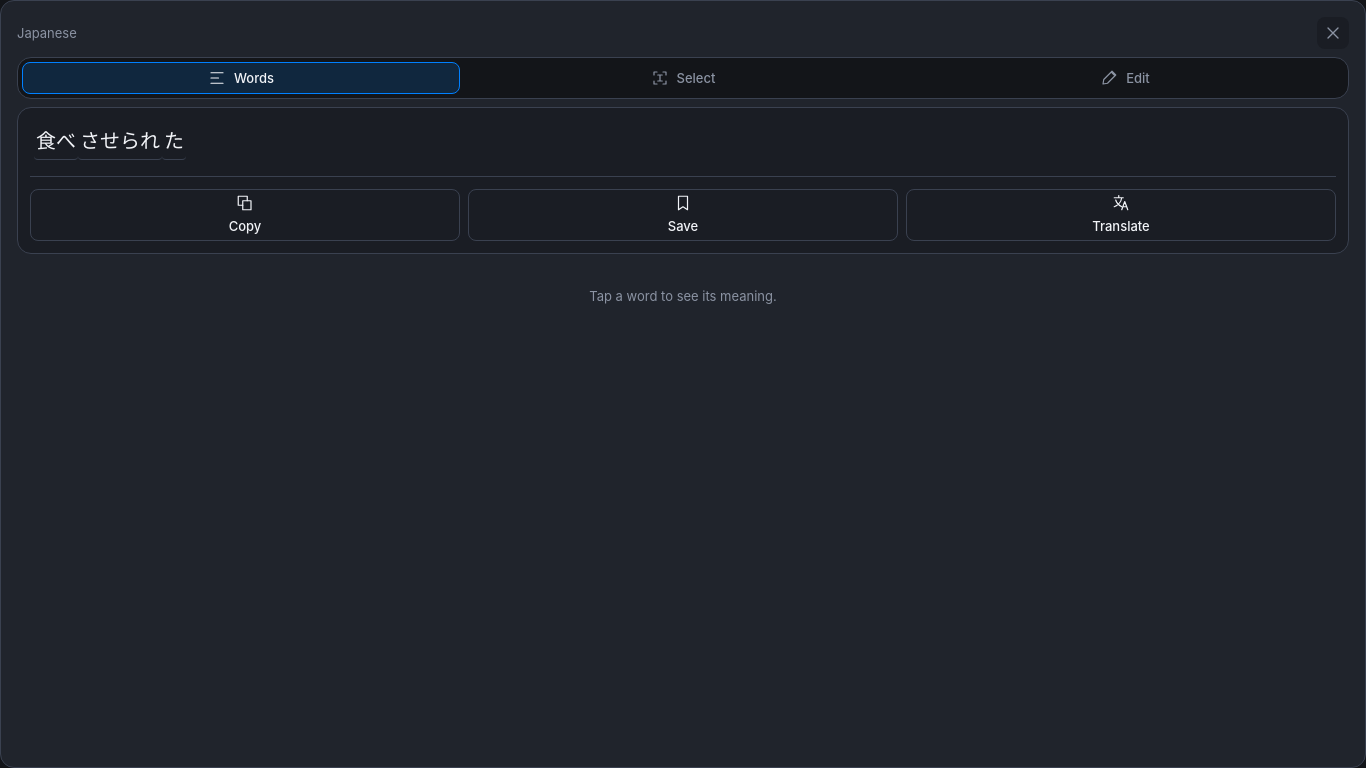
Scenario: keeps unsupported grammar explicit without guessing a manual lookup base
Click the tab "Select": (683, 78) [464,62,902,94]
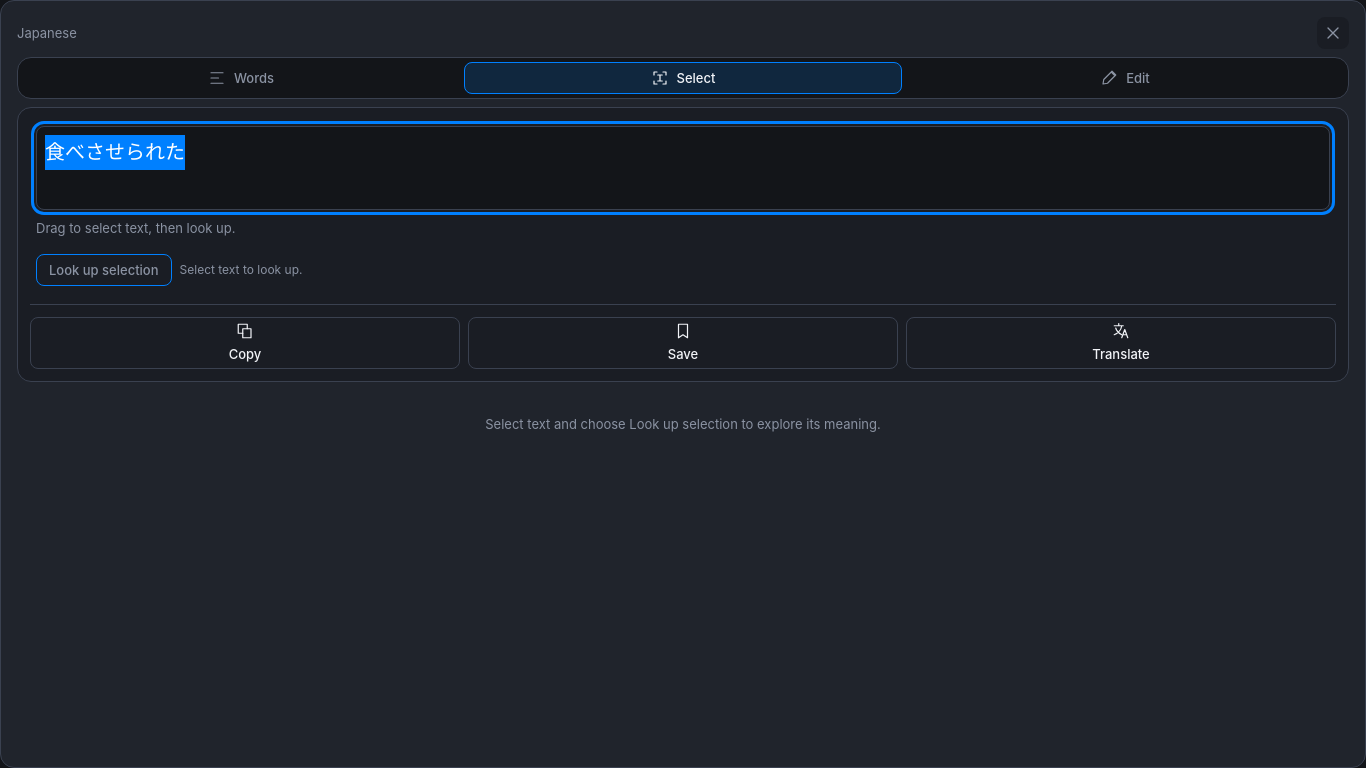
Press Shift in the text box with class "sentence-selection-text", box [36,126,1330,210]
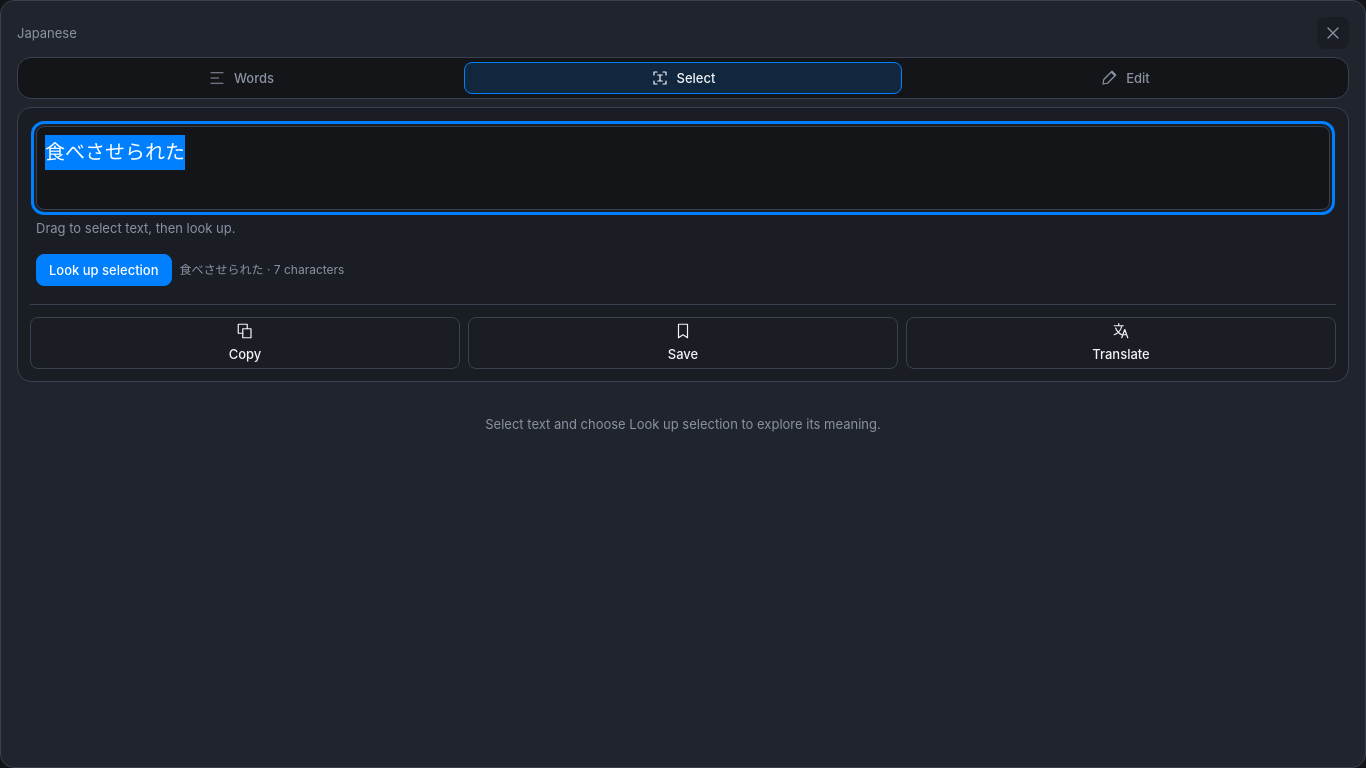
Click the button "Look up selection": (104, 270) [36,254,172,286]
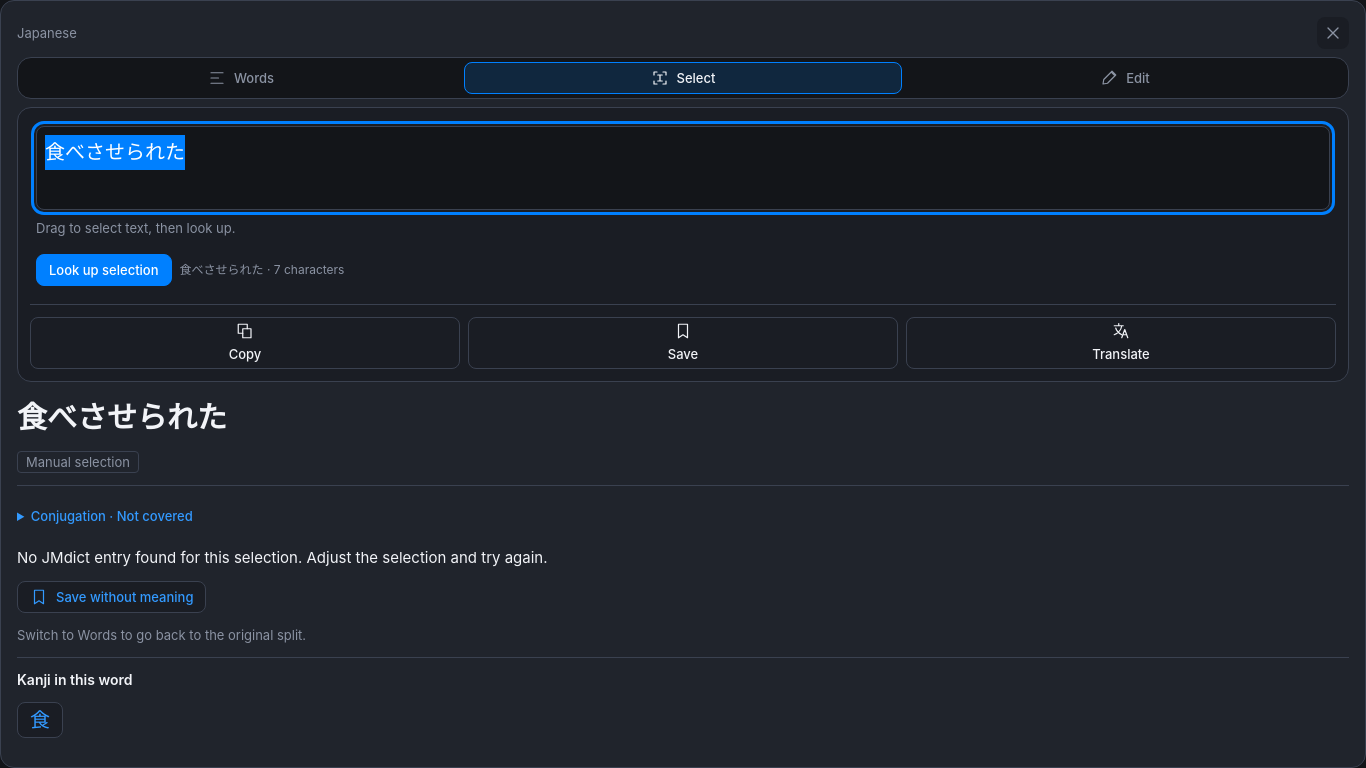
Check: the element with class "conjugation-explanation" shows "Not covered", box [117,508,193,524]
Check: the button "Save without meaning" is shown, box [17,581,206,613]
